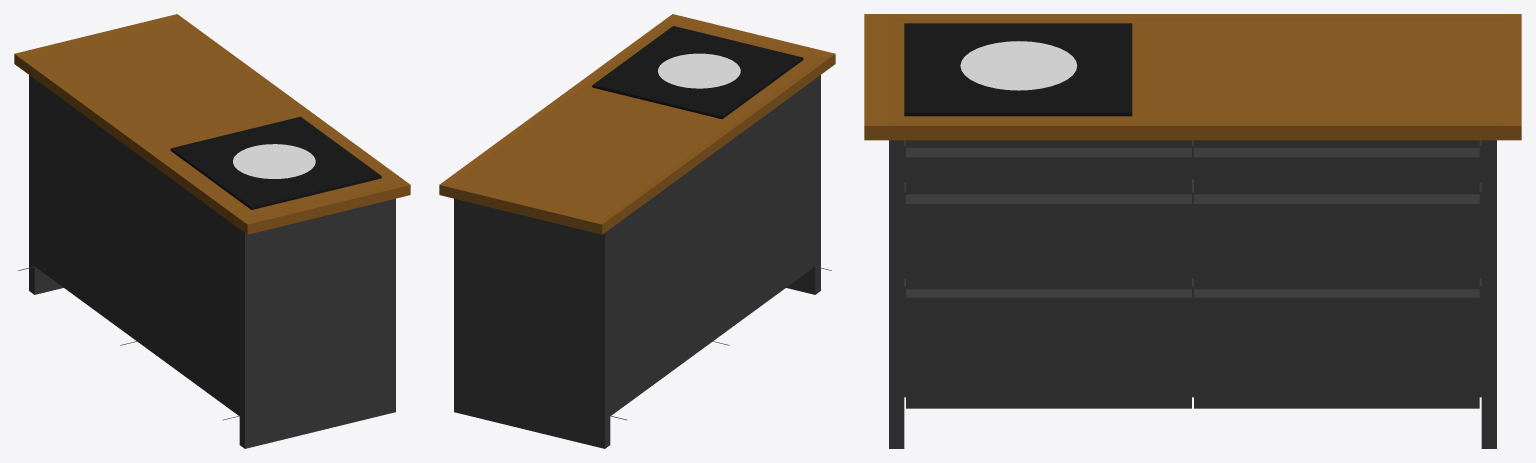
The model's file is stovecabinets.glb.
3 views of the same model, side by side, from view 1: azimuth 30°, elevation 25°; view 2: azimuth 150°, elevation 25°; view 3: azimuth 270°, elevation 25° (orthographic). The views are drawn at different scales.
Visible parts, largest first — view 1: Cube; view 2: Cube; view 3: Cube.
Boxes of the visible parts, box(x1,y1,x2,y2) form: Cube: box(14, 14, 410, 448); Cube: box(439, 14, 835, 448); Cube: box(864, 14, 1521, 448).
Bounding box in the file's own units: 2.86 × 3.71 × 6.66.
